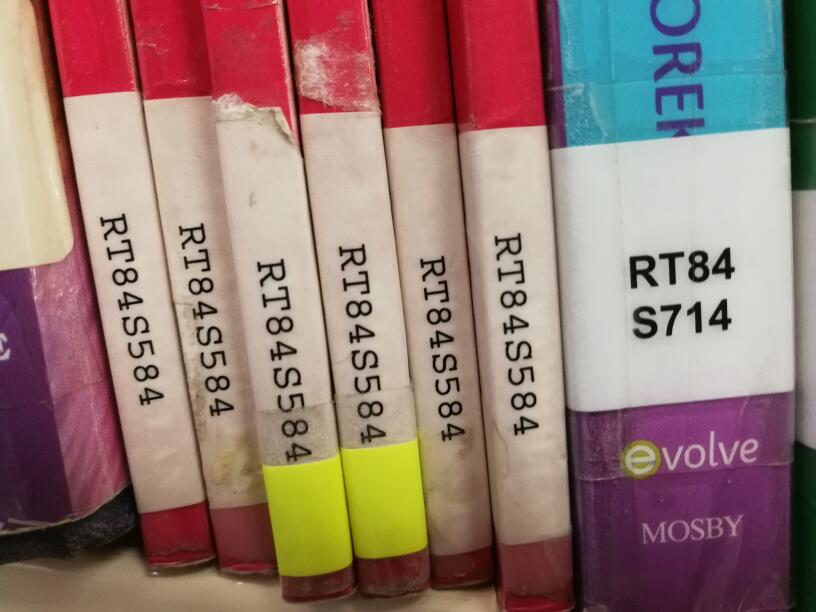booklabel: (94, 208, 169, 409), (250, 255, 318, 464), (173, 219, 240, 420), (620, 240, 740, 344), (487, 228, 545, 440), (332, 241, 391, 447), (411, 250, 472, 444)
